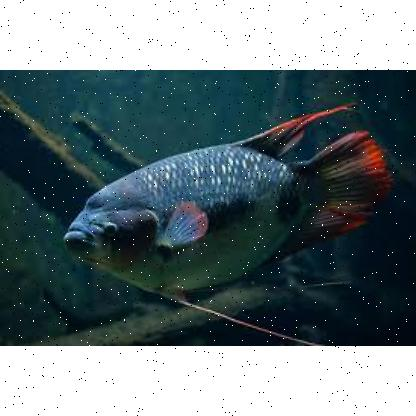gurame: (64, 129, 372, 287)
